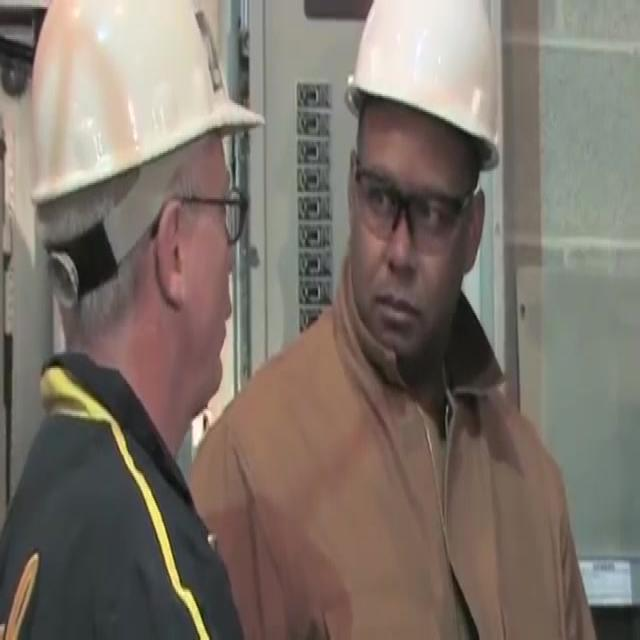Safety-Helmet: (24, 5, 266, 238), (340, 2, 512, 178)
